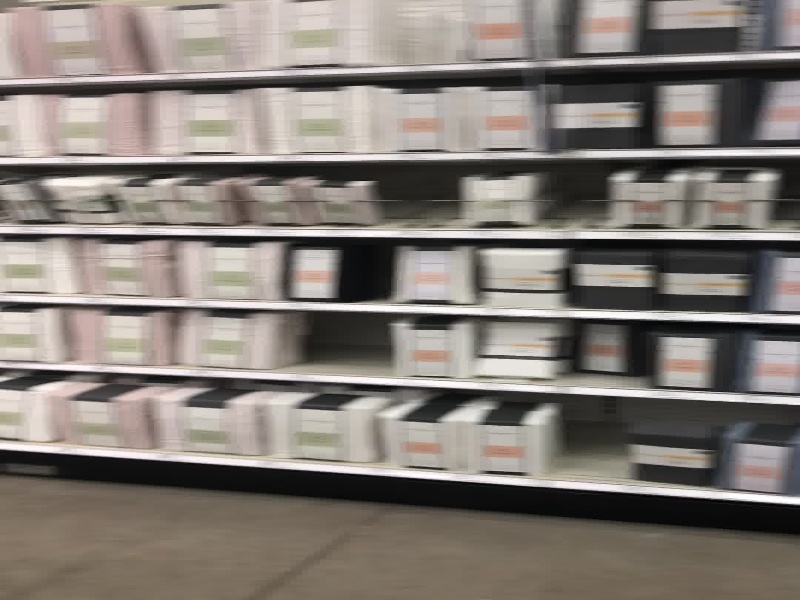void: (277, 312, 392, 380), (549, 394, 628, 482), (533, 161, 610, 230), (380, 168, 458, 227)
